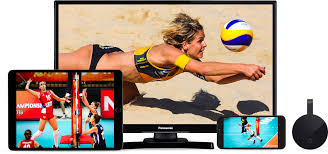ball: (220, 19, 253, 52)
